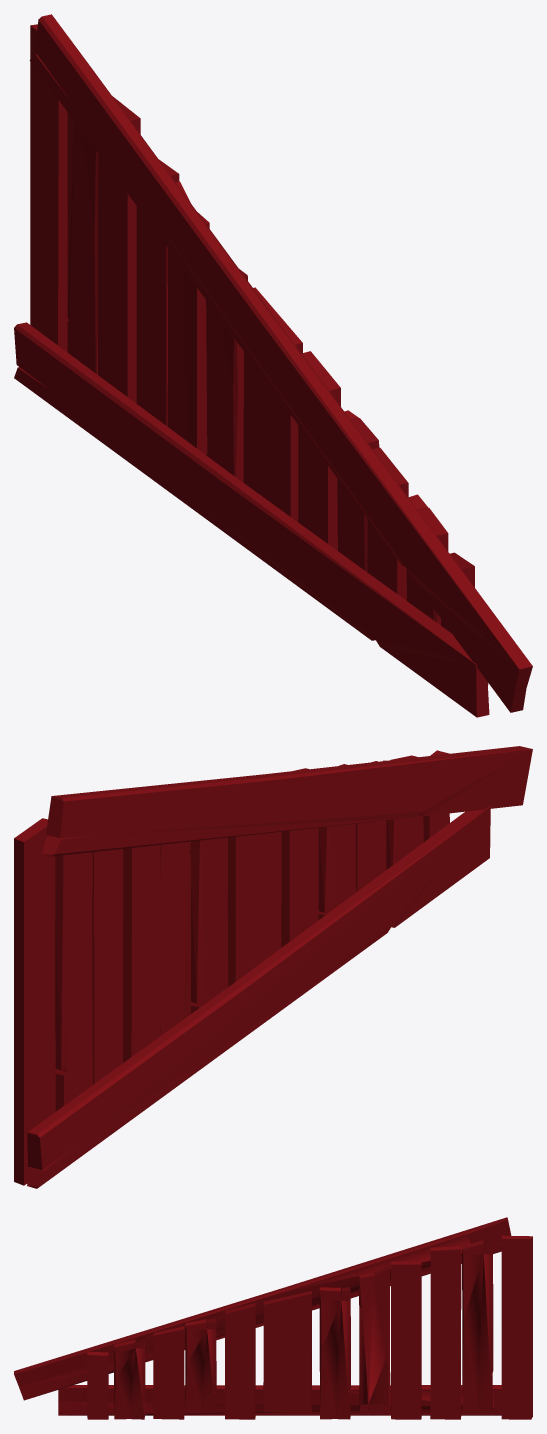
The model's file is SM_MH_01_Slate_Porch_Roof_Side_L_01.fbx.
3 views of the same model, one above another, from view 1: azimuth 30°, elevation 25°; view 2: azimuth 150°, elevation 25°; view 3: azimuth 270°, elevation 25° (orthographic). The views are drawn at different scales.
Parts seen in each view (by area): view 1: SM_MH_01_Slate_Porch_Roof_Side_L_01_LOD0; view 2: SM_MH_01_Slate_Porch_Roof_Side_L_01_LOD0; view 3: SM_MH_01_Slate_Porch_Roof_Side_L_01_LOD0.
Boxes of the visible parts, <box> form: SM_MH_01_Slate_Porch_Roof_Side_L_01_LOD0: <box>14,14,532,717</box>; SM_MH_01_Slate_Porch_Roof_Side_L_01_LOD0: <box>14,746,532,1188</box>; SM_MH_01_Slate_Porch_Roof_Side_L_01_LOD0: <box>14,1217,532,1419</box>.
Size of what is drawn, in the model's own units: 10.57 by 137 by 328.
